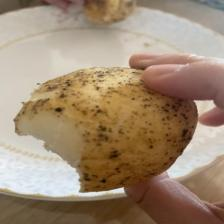Damaged potato: (12, 64, 200, 191)
